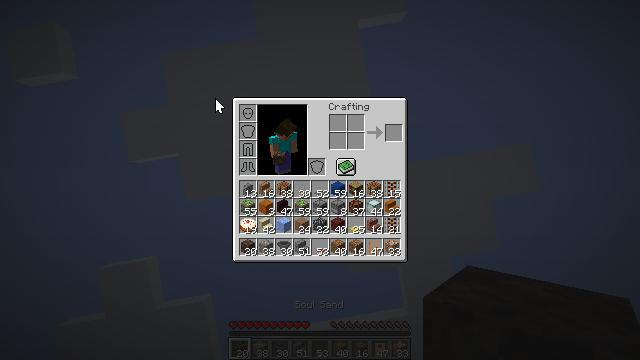cursor: (98, 215, 114, 225)
